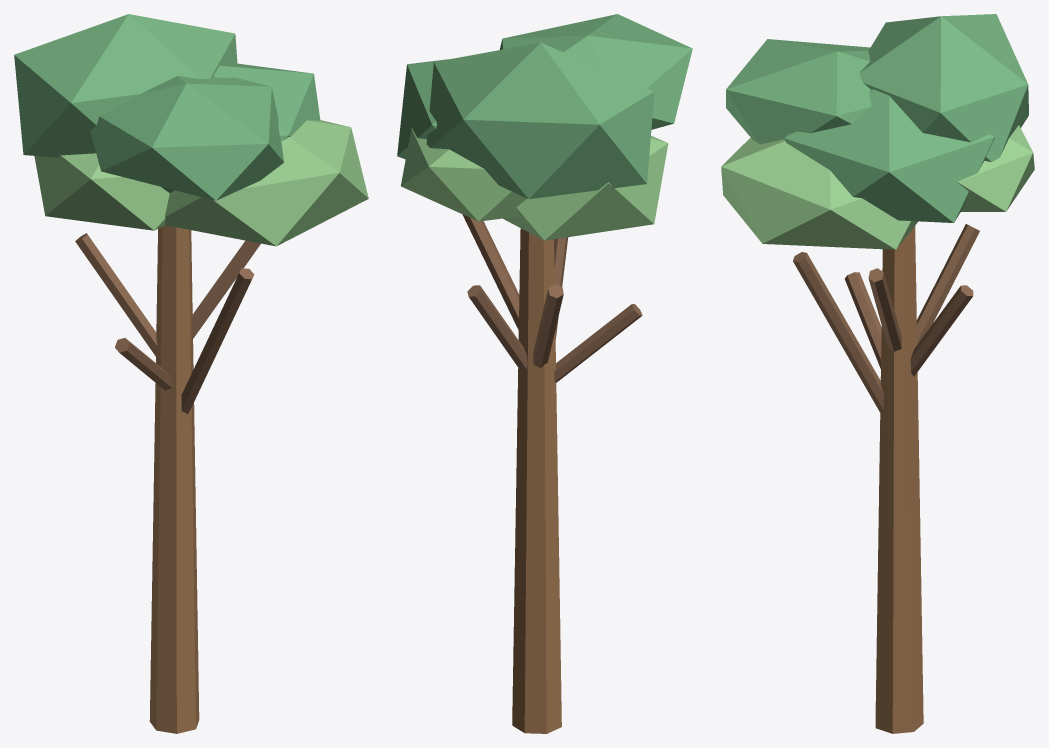
File: broadleaf_02.glb
3 renders of one model, left to right at view 1: azimuth 30°, elevation 25°; view 2: azimuth 150°, elevation 25°; view 3: azimuth 270°, elevation 25°, orthographic.
Visible parts, largest first — view 1: broadleaf_02; view 2: broadleaf_02; view 3: broadleaf_02.
Part boxes in pixels (left/top/right/bottom): broadleaf_02: left=14, top=14, right=368, bottom=733; broadleaf_02: left=397, top=14, right=692, bottom=733; broadleaf_02: left=721, top=14, right=1034, bottom=733.
Bounding box in the file's own units: 2.18 × 5.34 × 2.18.
